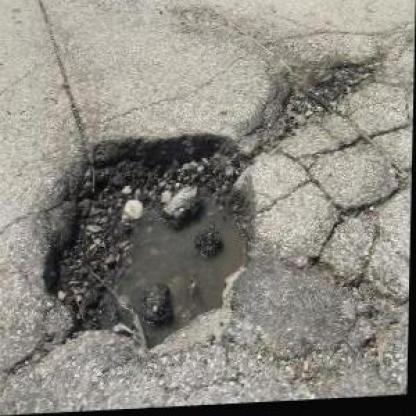pothole: (38, 128, 263, 357), (258, 58, 380, 151)
